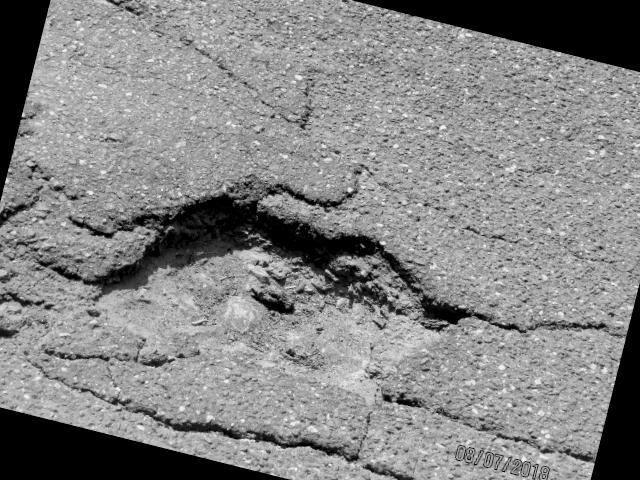Pothole: (81, 146, 492, 456)
